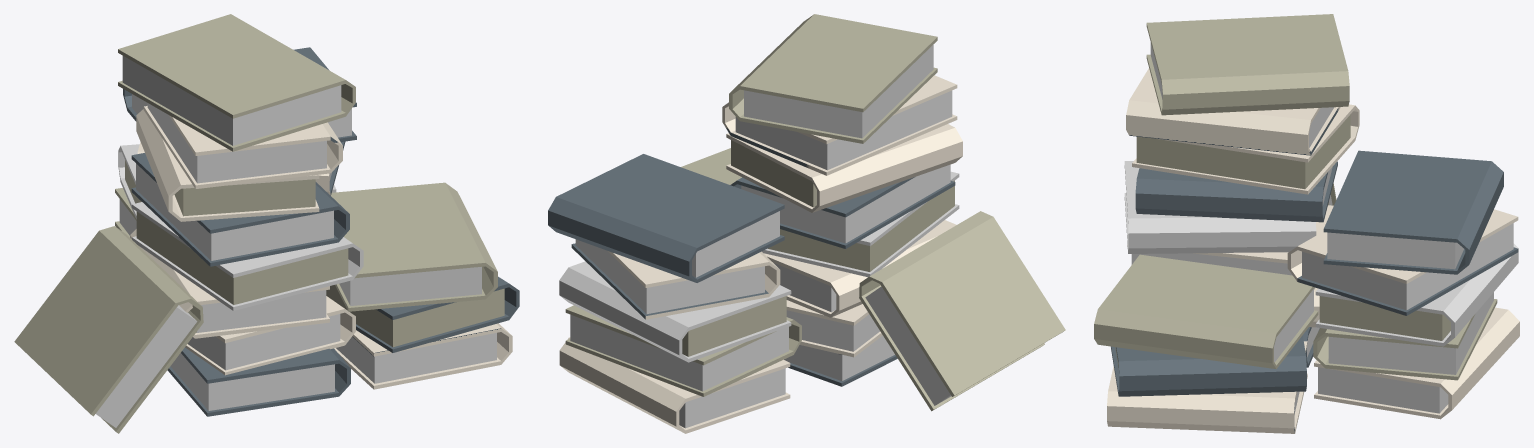
Rendered from book.fbx.
3 views of the same model, side by side, from view 1: azimuth 30°, elevation 25°; view 2: azimuth 150°, elevation 25°; view 3: azimuth 270°, elevation 25° (orthographic). The views are drawn at different scales.
Visible parts, largest first — view 1: Cube; view 2: Cube; view 3: Cube.
Boxes of the visible parts, left/top/right/bottom form: Cube: left=14, top=14, right=519, bottom=433; Cube: left=548, top=14, right=1065, bottom=433; Cube: left=1094, top=14, right=1519, bottom=433.
Size of the model in its own units: 122 by 109 by 80.84.
